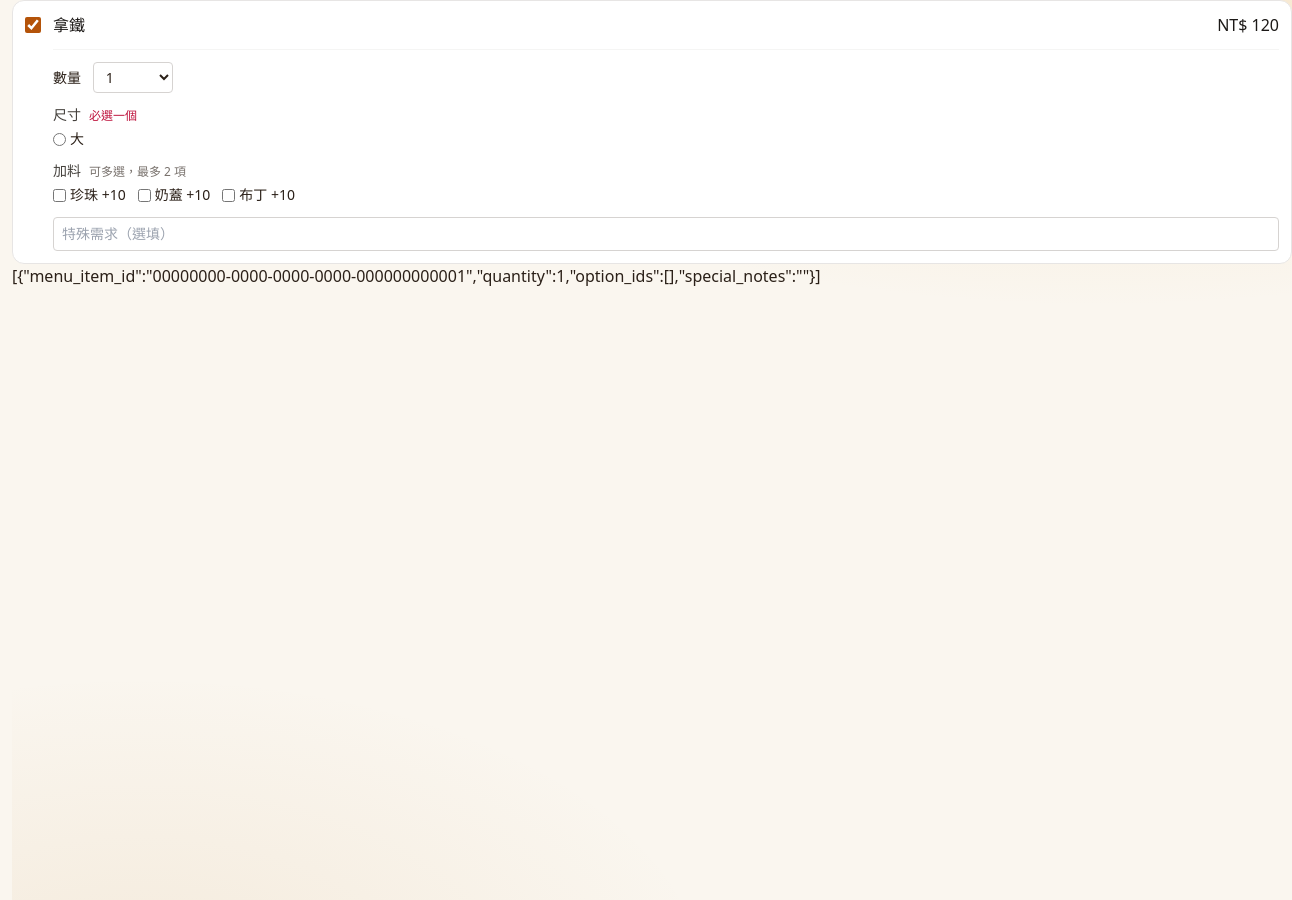
Test case: labels a required set and caps a multi set
Expected: the text "必選一個" is shown, [89, 107, 137, 124]
Click the checkbox labelled "珍珠 +10" at coordinates (60, 195), box [53, 188, 66, 202]
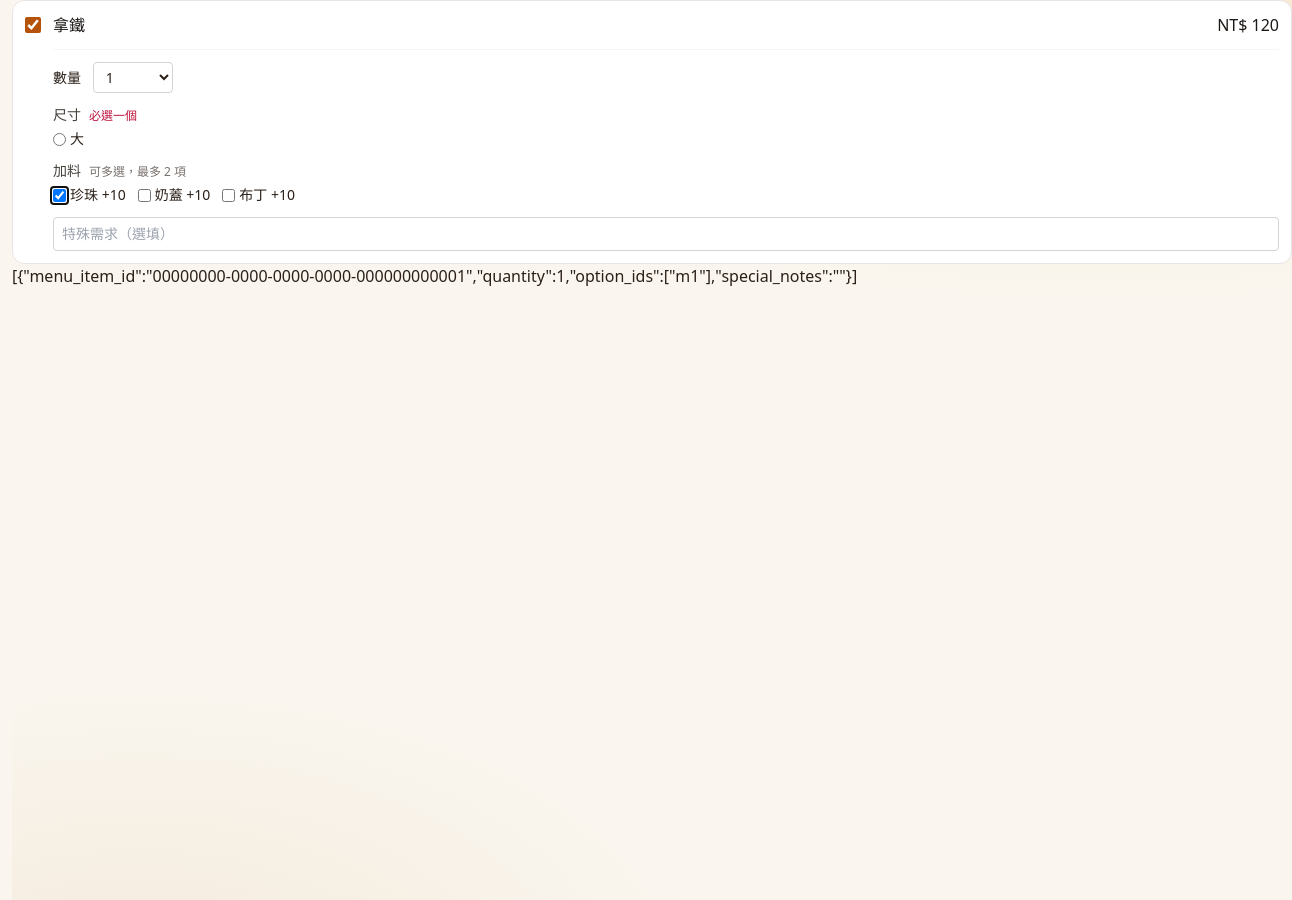
Click the checkbox labelled "奶蓋 +10" at coordinates (144, 195), box [138, 188, 151, 202]
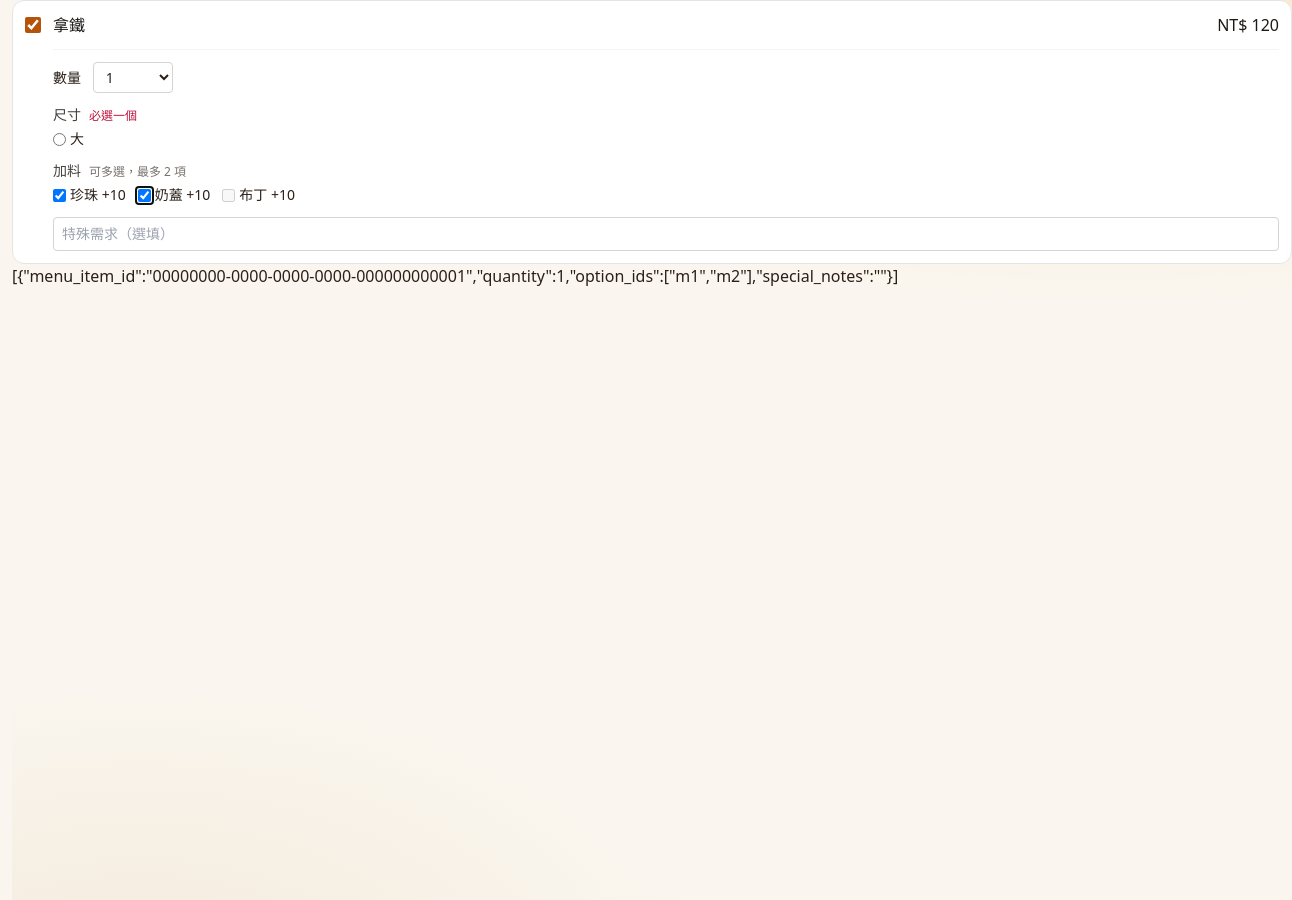
Now the checkbox labelled "布丁 +10" is disabled, box [222, 188, 235, 202]
